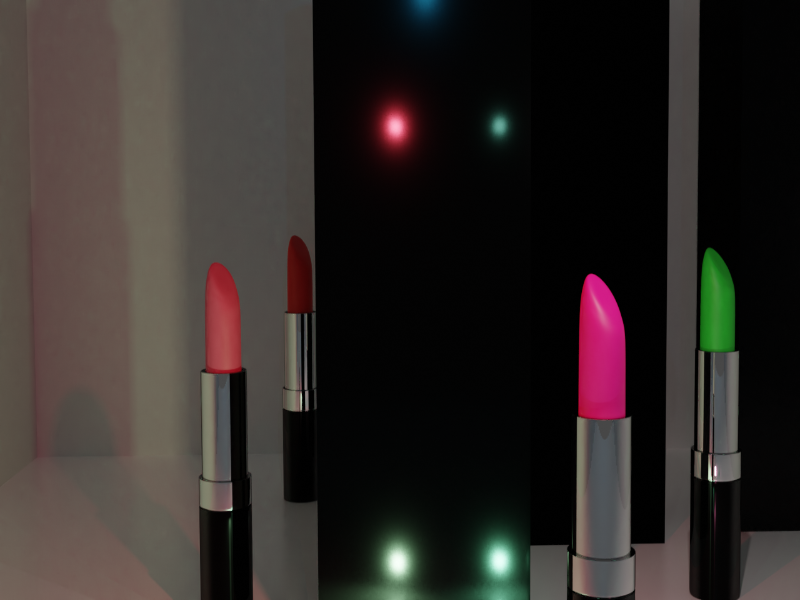lipstick: (579, 271, 634, 595), (201, 258, 252, 595), (696, 244, 740, 594), (284, 232, 313, 502)
